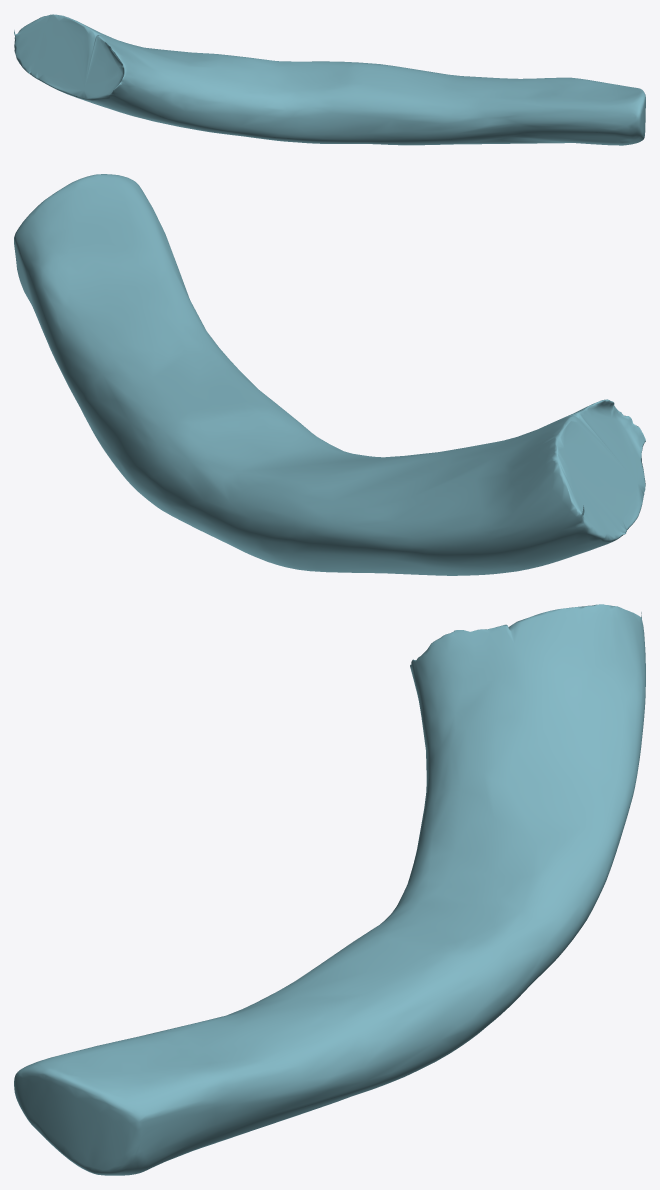
The picture shows the model from 3 angles, top to bottom: view 1: azimuth 30°, elevation 25°; view 2: azimuth 150°, elevation 25°; view 3: azimuth 270°, elevation 25°; orthographic projection. The views are drawn at different scales.
Parts seen in each view (by area): view 1: 右侧第六肋软骨; view 2: 右侧第六肋软骨; view 3: 右侧第六肋软骨.
Part boxes in pixels (x1,y1,x2,y2): 右侧第六肋软骨: (14, 14, 645, 145); 右侧第六肋软骨: (14, 174, 645, 575); 右侧第六肋软骨: (14, 604, 645, 1175).
Bounding box in the file's own units: 0.1217 × 0.0334 × 0.0821.
